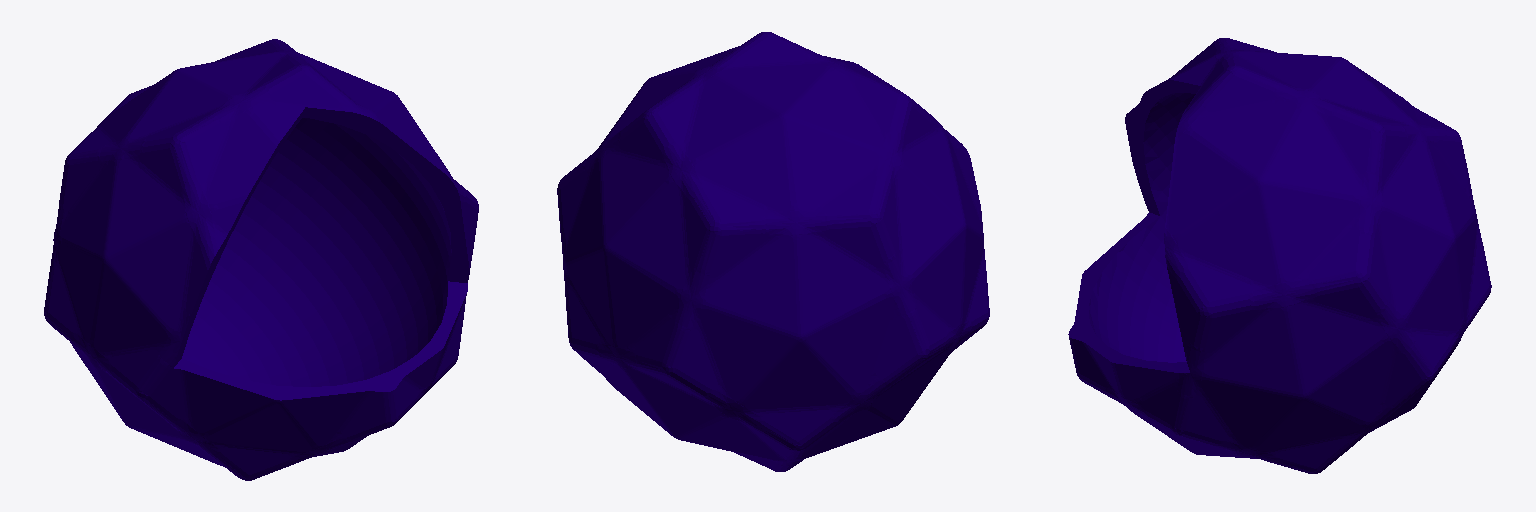
The model's file is Shell_1.obj.
The picture shows the model from 3 angles: view 1: azimuth 30°, elevation 25°; view 2: azimuth 150°, elevation 25°; view 3: azimuth 270°, elevation 25°; orthographic projection.
Visible parts, largest first — view 1: mesh 2 Pentagon Piece-4-surface2, mesh 1 Dodecahedron 6-1; view 2: mesh 2 Pentagon Piece-4-surface2, mesh 1 Dodecahedron 6-1; view 3: mesh 2 Pentagon Piece-4-surface2, mesh 1 Dodecahedron 6-1.
Part boxes in pixels (bbox=[...]): mesh 2 Pentagon Piece-4-surface2: bbox=[44, 39, 478, 480]; mesh 1 Dodecahedron 6-1: bbox=[48, 41, 477, 474]; mesh 2 Pentagon Piece-4-surface2: bbox=[557, 32, 989, 471]; mesh 1 Dodecahedron 6-1: bbox=[561, 37, 987, 469]; mesh 2 Pentagon Piece-4-surface2: bbox=[1068, 38, 1491, 473]; mesh 1 Dodecahedron 6-1: bbox=[1072, 39, 1489, 468].
Size of the model in its own units: 0.2654 by 0.2743 by 0.2618.